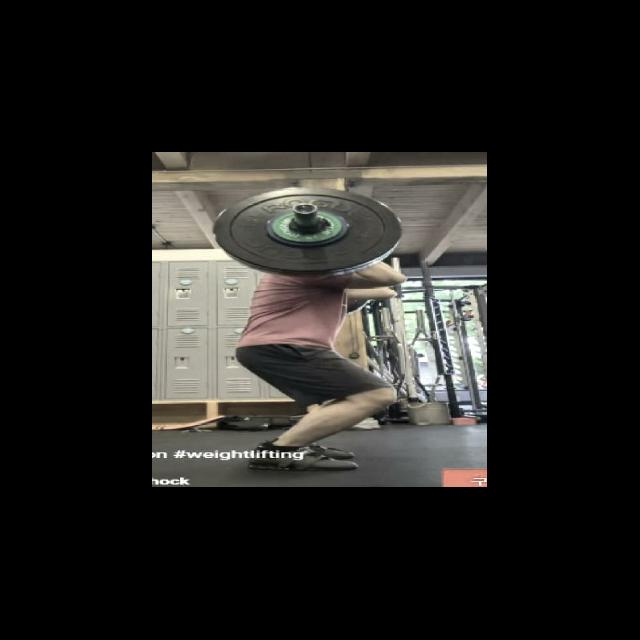barbell: (208, 183, 405, 278)
